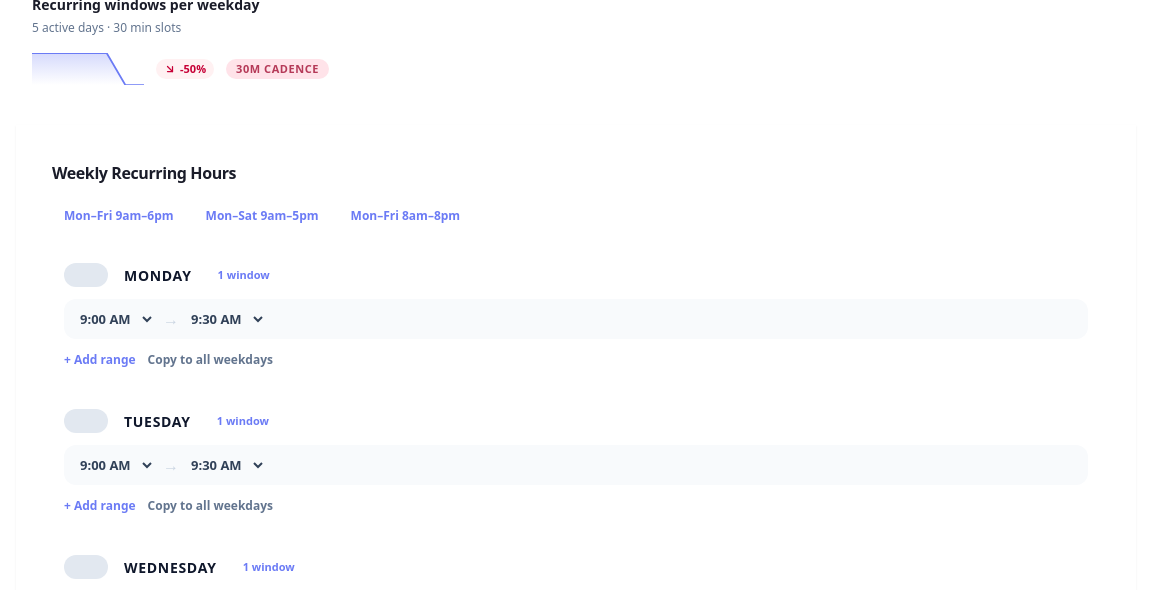
Scenario: ProviderAvailability › clears stale day slot errors after removing an invalid extra range
(page scrolled)
Click the button "+ Add range" below "Monday": (100, 360) [64,351,136,369]
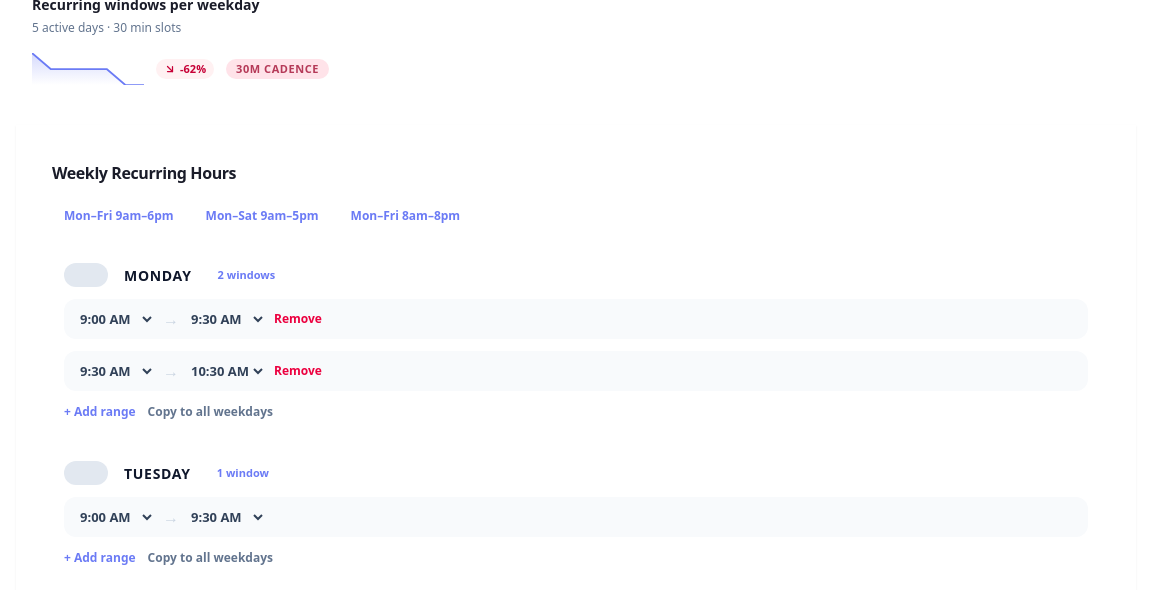
Select "6:00 PM" in the 3rd dropdown: (116, 371) [76,361,155,381]
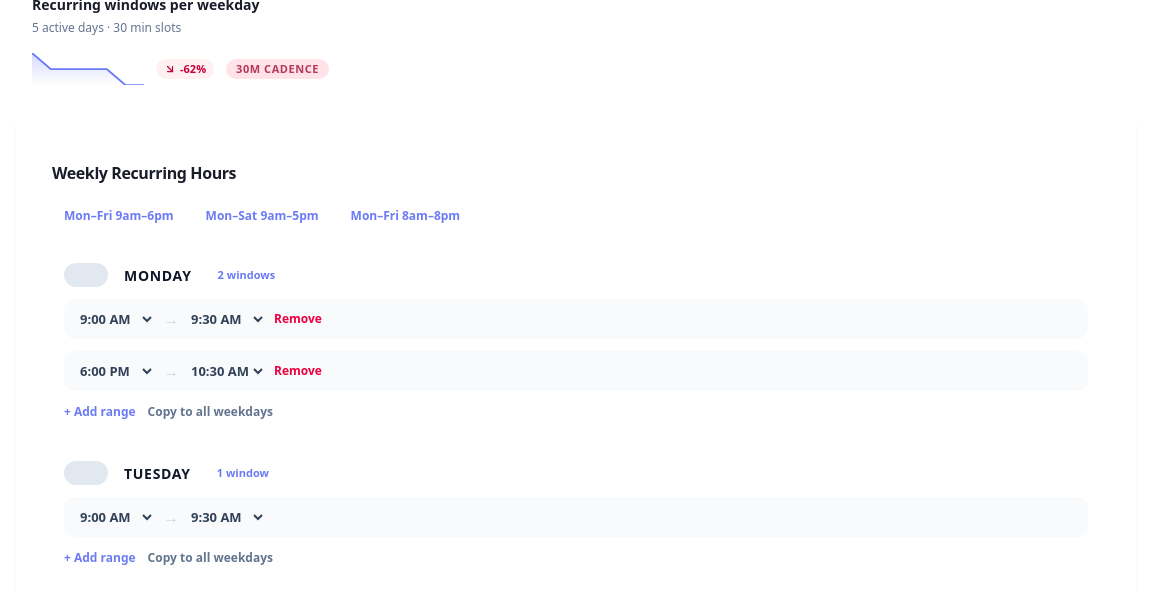
Select "9:00 AM" in the 4th dropdown: (226, 371) [187,361,266,381]
(page scrolled)
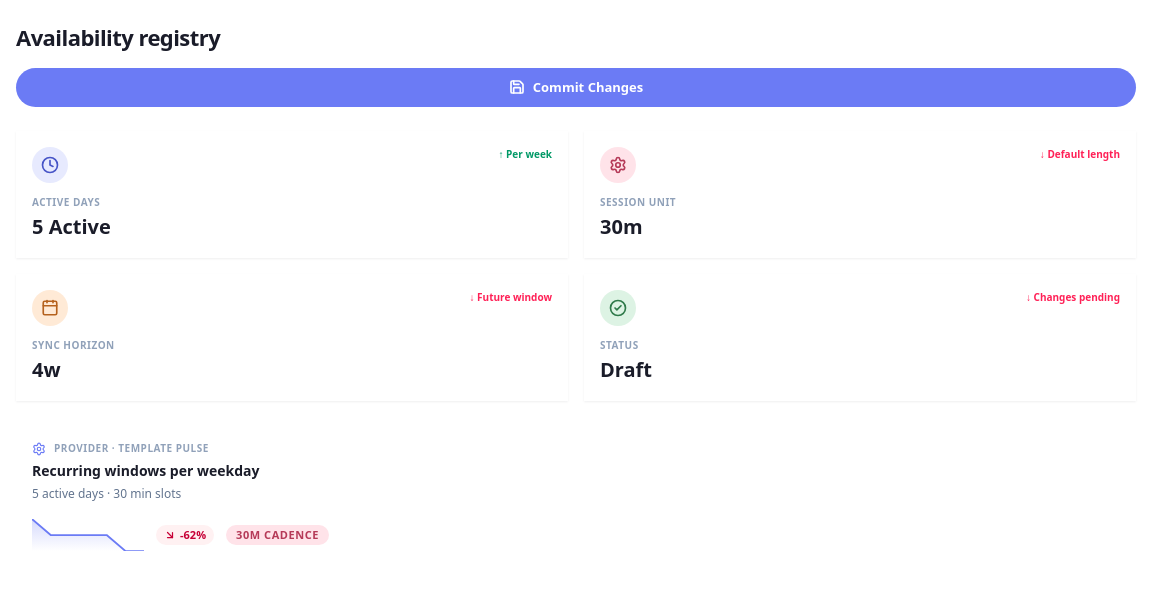
Click the button "Commit Changes": (576, 87) [16,68,1136,107]
(page scrolled)
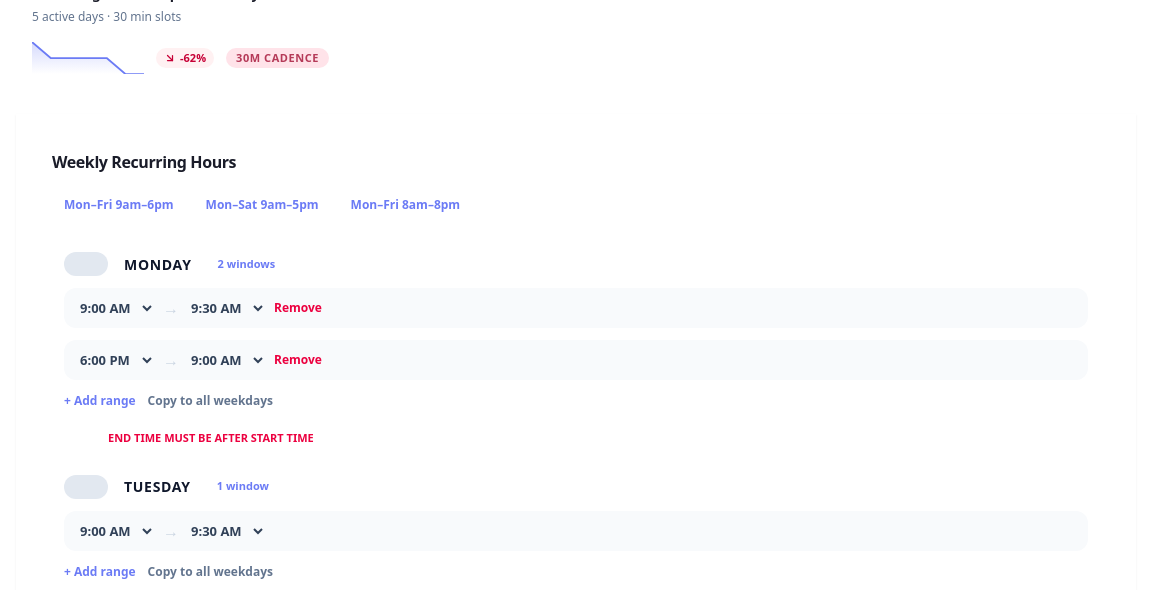
Now the text "End time must be after start time" is shown, box [108,430,314,445]
Click the 2nd button "Remove": (298, 360) [274,351,322,369]
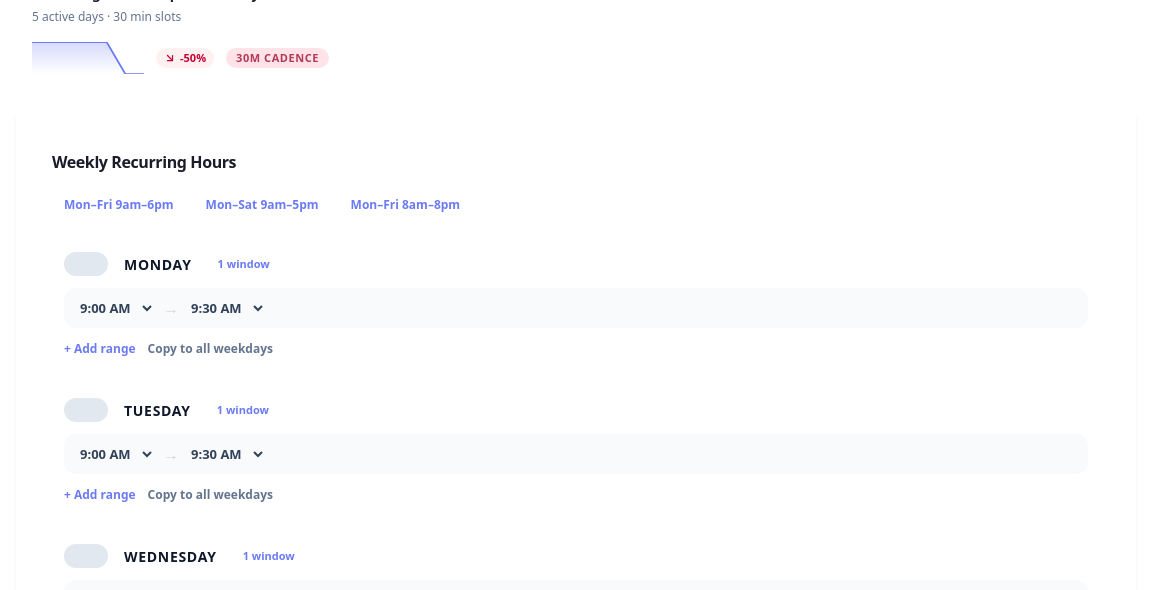
Now the text "End time must be after start time" is gone
